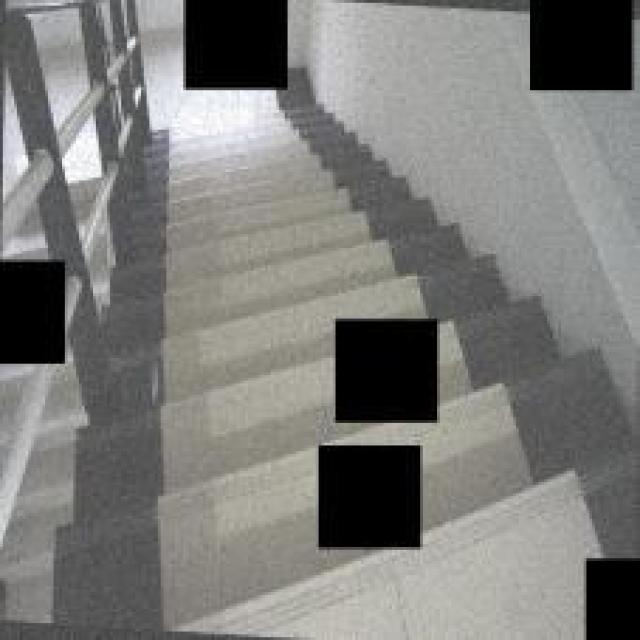downstair: (125, 120, 308, 639)
